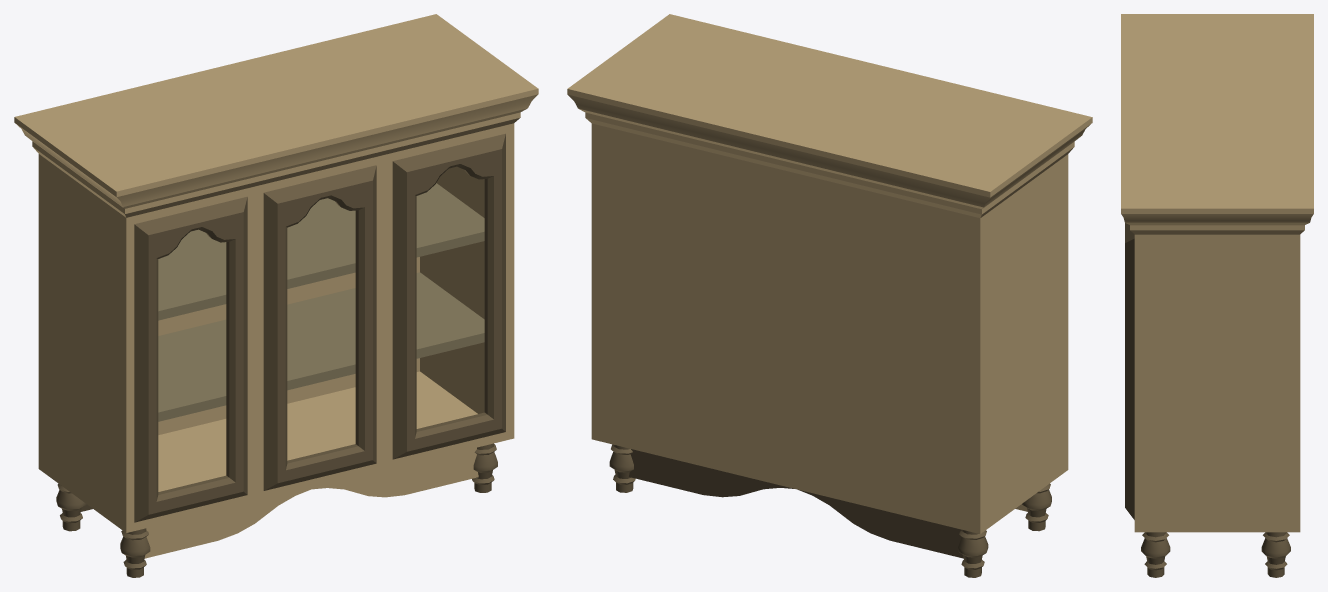
File: Bar_Shelf.fbx
3 views of the same model, side by side, from view 1: azimuth 30°, elevation 25°; view 2: azimuth 150°, elevation 25°; view 3: azimuth 270°, elevation 25° (orthographic). The views are drawn at different scales.
Parts seen in each view (by area): view 1: Bar_shelf; view 2: Bar_shelf; view 3: Bar_shelf.
Part boxes in pixels (bbox=[...]): Bar_shelf: bbox=[14, 14, 538, 577]; Bar_shelf: bbox=[567, 14, 1092, 577]; Bar_shelf: bbox=[1121, 14, 1313, 577].
Size of the model in its own units: 418 by 384 by 175.
